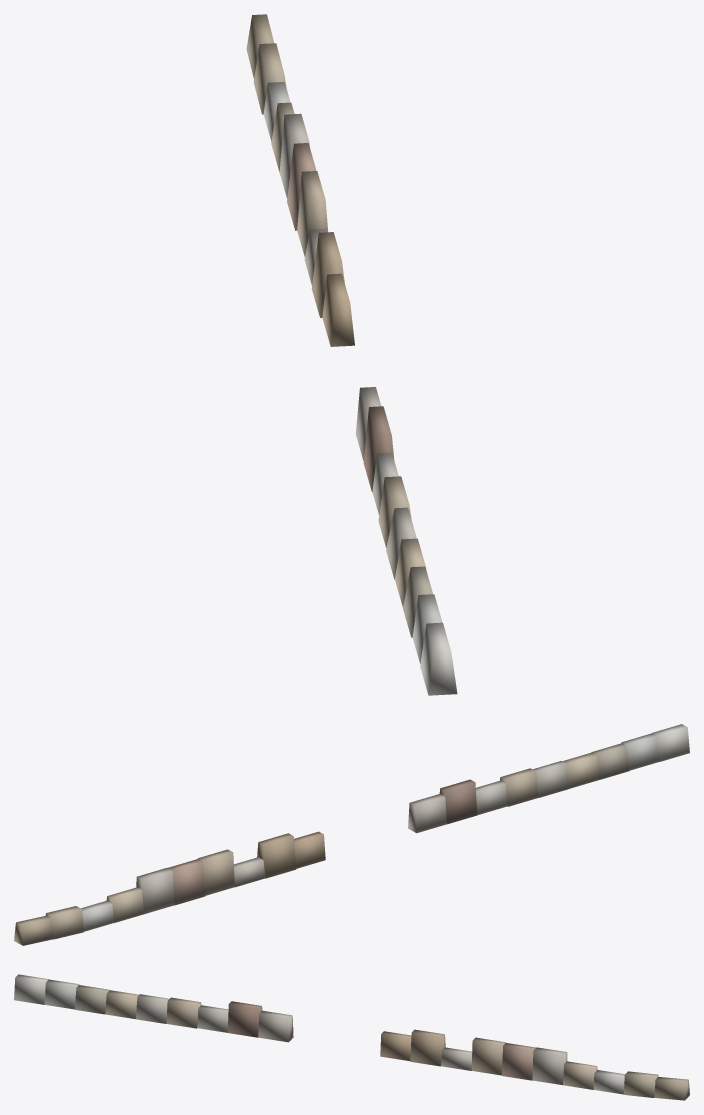
File: farm_-4_10_collision.glb
The picture shows the model from 3 angles, top to bottom: view 1: azimuth 30°, elevation 25°; view 2: azimuth 150°, elevation 25°; view 3: azimuth 270°, elevation 25°; orthographic projection. The views are drawn at different scales.
Parts seen in each view (by area): view 1: geometry_0; view 2: geometry_0; view 3: geometry_0.
Boxes of the visible parts, x1=… form: geometry_0: x1=246, y1=14, x2=457, y2=695; geometry_0: x1=14, y1=724, x2=689, y2=945; geometry_0: x1=14, y1=974, x2=689, y2=1100.
Bounding box in the file's own units: 13.99 × 2.15 × 32.16.
